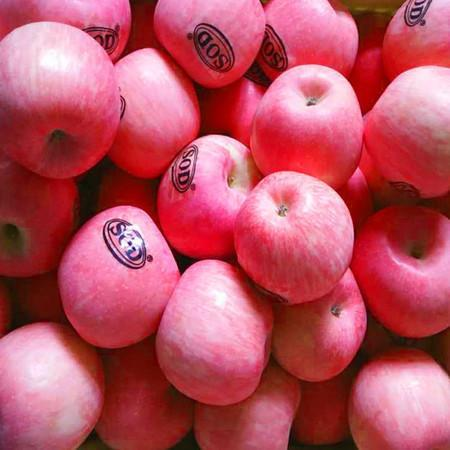apple: (1, 17, 131, 189), (56, 207, 178, 349), (154, 259, 267, 404), (234, 171, 357, 303), (248, 63, 362, 187), (347, 201, 450, 337), (1, 322, 105, 448), (105, 45, 202, 179), (358, 66, 450, 205), (158, 139, 264, 254), (341, 346, 449, 448), (151, 1, 273, 89), (252, 1, 358, 84), (1, 1, 129, 55), (380, 1, 448, 81)
